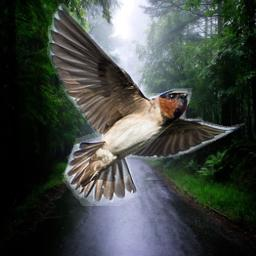Swallow: (46, 3, 245, 206)
